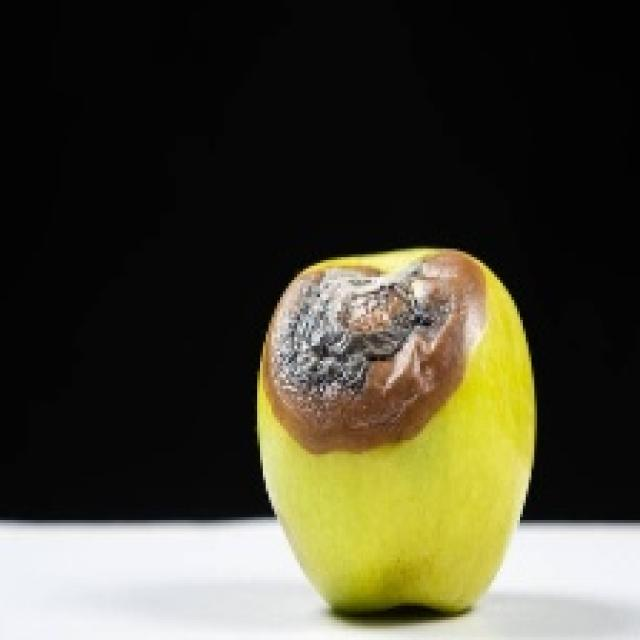rotten_apple: (262, 249, 536, 619)
